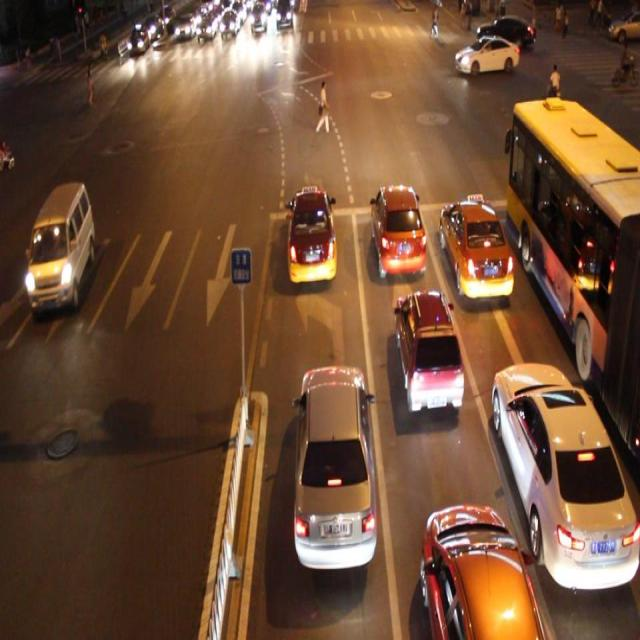car: (490, 360, 640, 592), (293, 365, 376, 572), (421, 501, 541, 640), (25, 183, 95, 317), (394, 289, 462, 415), (438, 196, 514, 303), (369, 185, 426, 278), (284, 188, 337, 287), (455, 34, 518, 78)
van: (507, 98, 640, 456)
